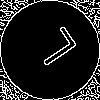L: (25, 25, 79, 74)
